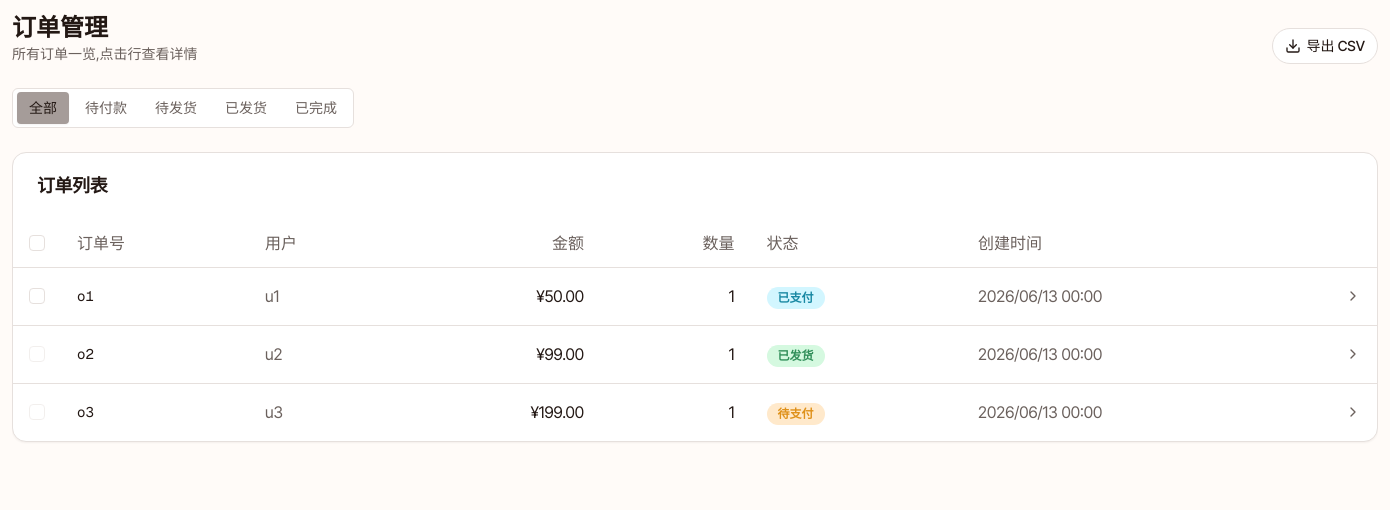
it: OrderListPage › OD ad-05: 空态显示 Package 图标文案而非"暂无数据"
The width and height of the screenshot is (1390, 510).
Expected: the text "o1" is shown, [61,267,249,325]
Step 1. Click the tab "已完成" → (316, 108), box [283,92,349,124]
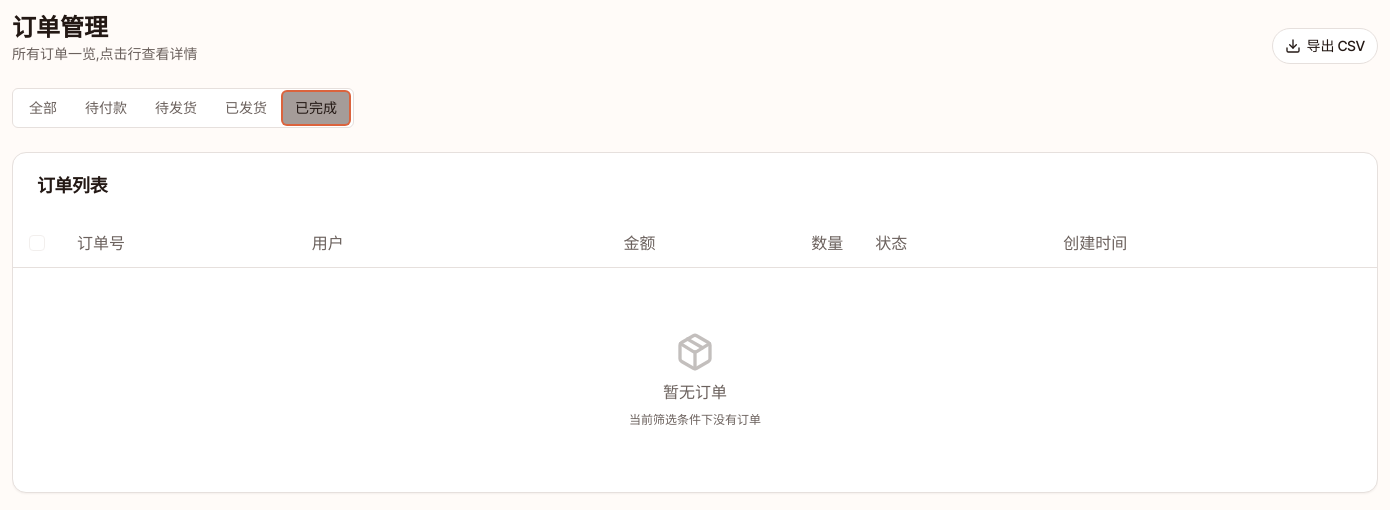
Expected: the text "暂无订单" is shown, [663,380,727,404]
Expected: the text "当前筛选条件下没有订单" is shown, [629,412,761,428]
